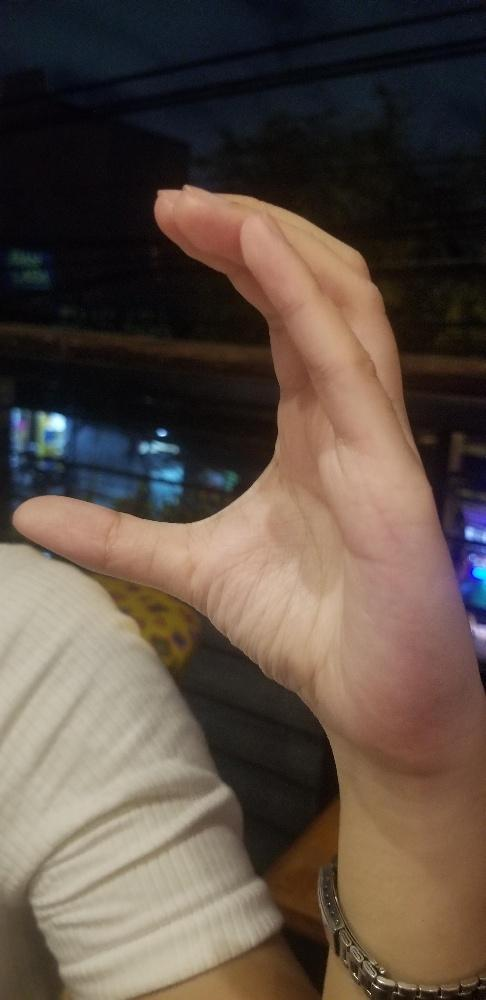c: (10, 183, 485, 728)
